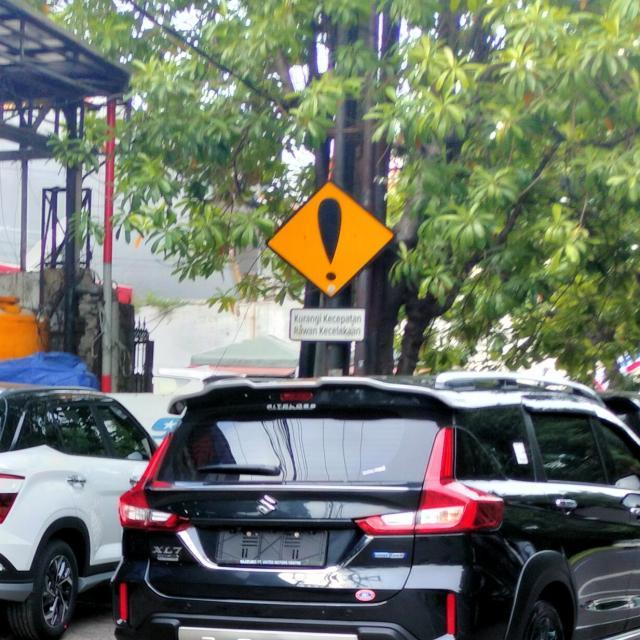Hati-Hati: (263, 180, 397, 302)
